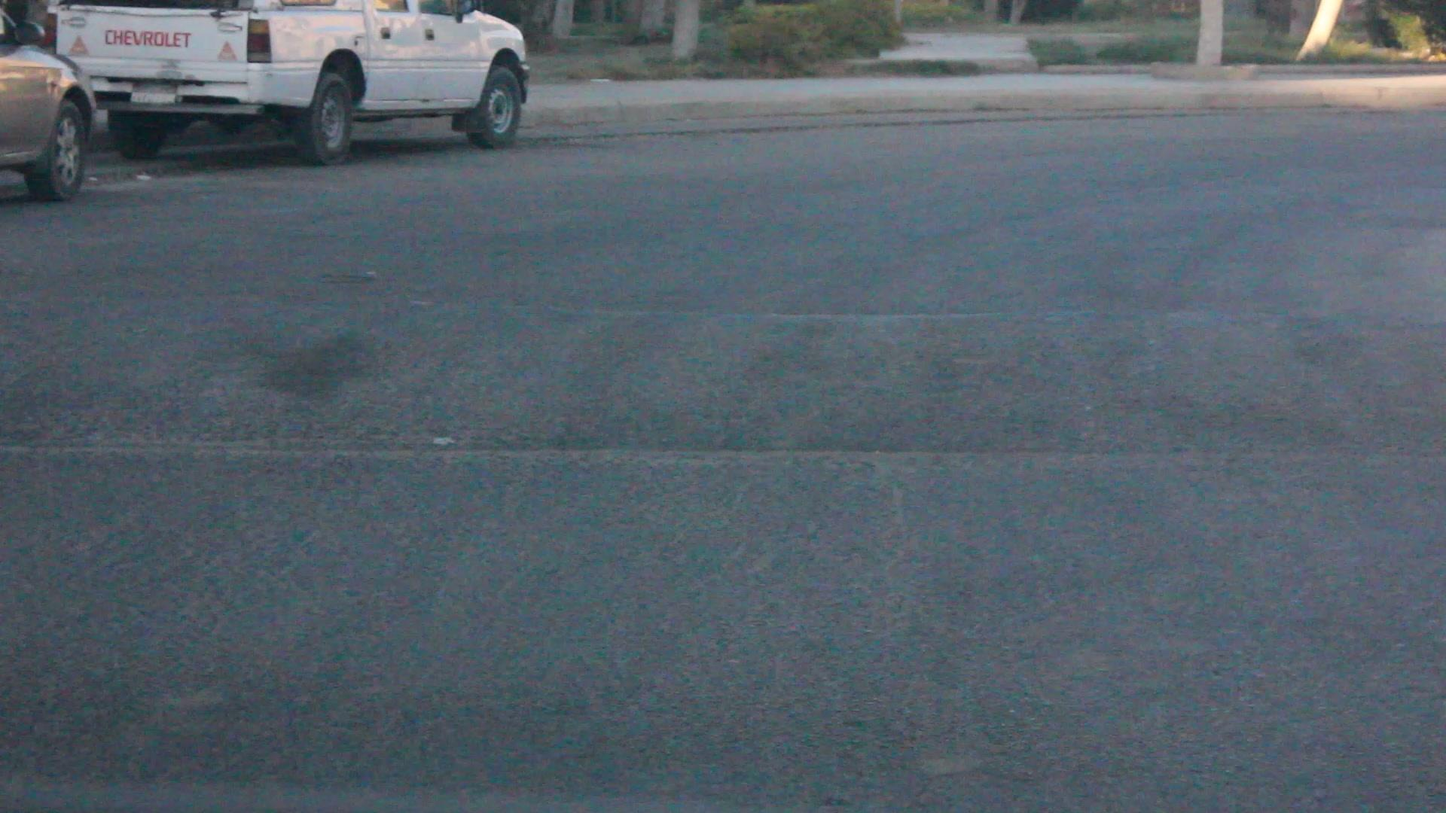Bump: (15, 312, 1446, 570)
